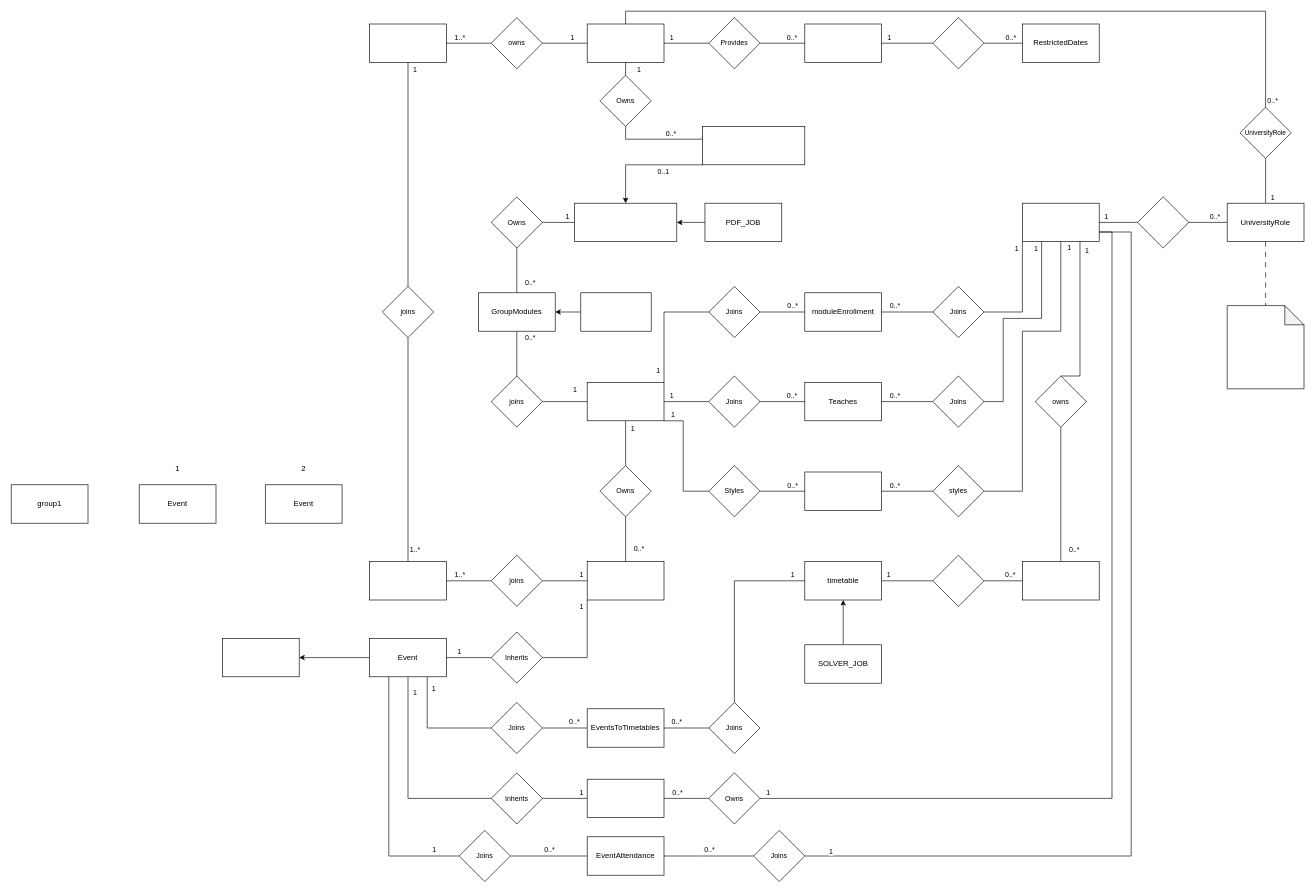
Some shapes in this 1315 by 893 pixel diagram are drawn without their labels. Each missing label, with the centre of its shape:
Academic Calendar: point 843,42
Assigns Role: point 1163,222
Course: point 753,145
CourseModule: point 615,311
EventVenue: point 407,580
group: point 260,657
Module: point 625,401
ModuleGrouping: point 625,222
ModuleStyling: point 843,490
Note a user can only have one role per university: point 1265,347
PersonalEvent: point 625,798
restricts: point 958,43
subscribes To: point 958,580
University: point 625,42
UniversityEvent: point 625,580
User: point 1060,222
userTimetable: point 1060,580
Venue: point 407,42
